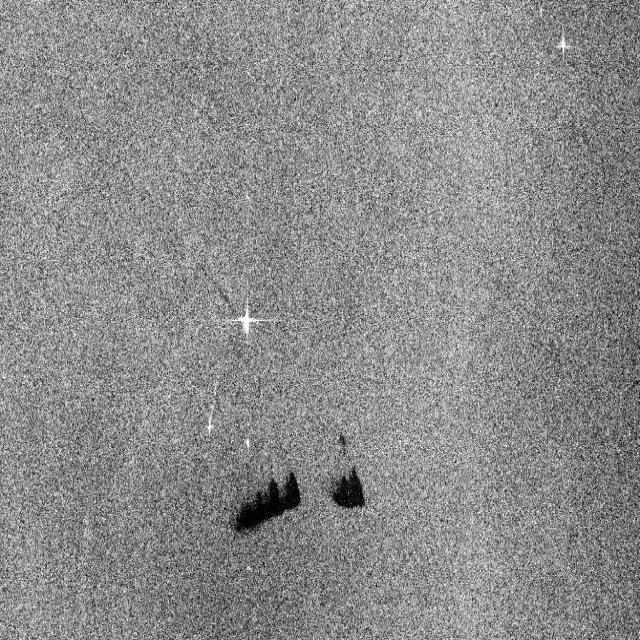oil-spill: (225, 469, 310, 540), (325, 433, 376, 530)
ship: (235, 292, 261, 338), (551, 23, 572, 67), (197, 403, 218, 441)
